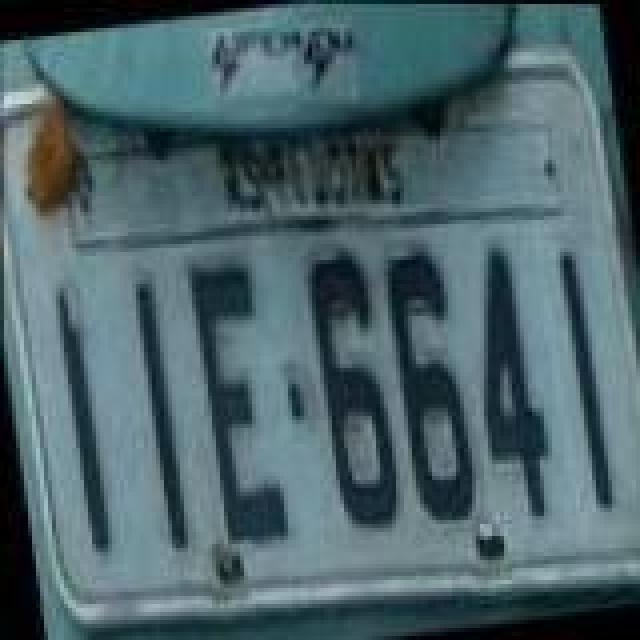1: (50, 282, 114, 558), (128, 276, 188, 556), (558, 248, 614, 512)
4: (456, 244, 556, 528)
6: (302, 248, 406, 540), (380, 244, 480, 528)
E: (186, 256, 290, 548)
